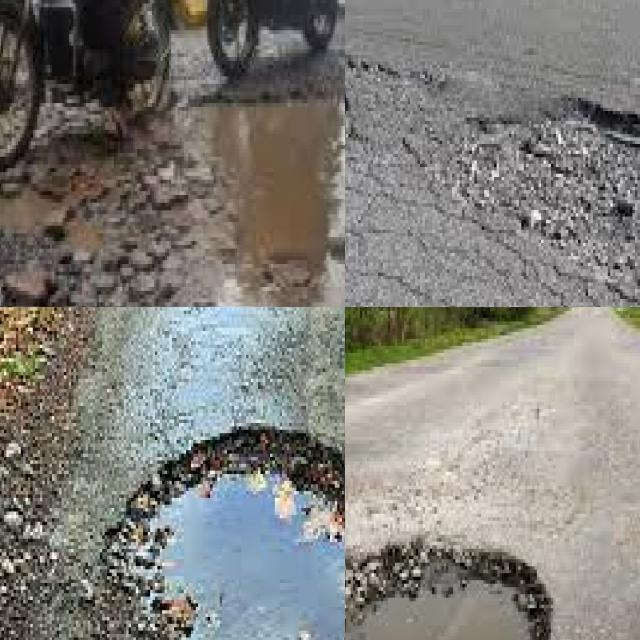Pothole: (114, 430, 345, 640), (135, 103, 345, 307), (494, 114, 640, 235)
